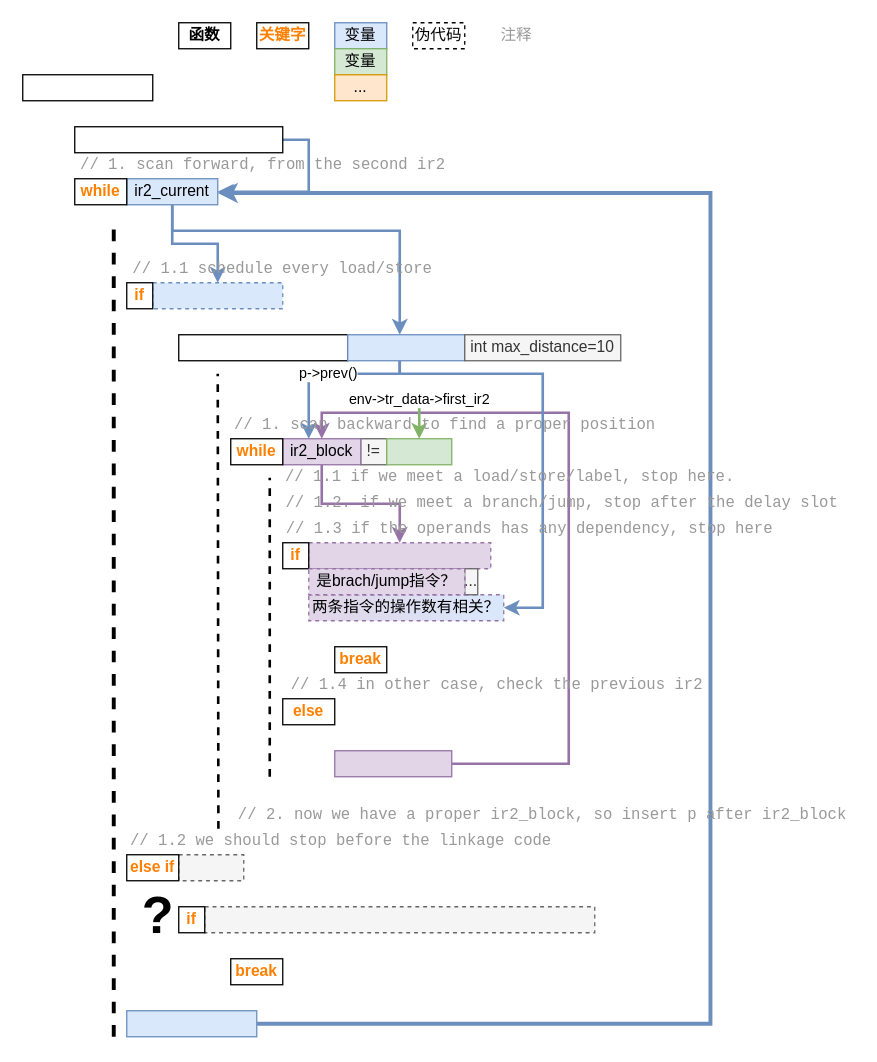
Image size: 877x1062. Some labels were removed from this diagram. The centre of each missing label's shape, as x and y in pixels:
_native_code_offset_for_succ_linkage ...: (x=399, y=919)
env->tr_data->first_ir2-> next: (x=178, y=139)
INR2_INST *p: (x=405, y=347)
ir2_block-> prev: (x=392, y=763)
ir2_current-> next: (x=191, y=1023)
ir2_first: (x=418, y=451)
TB:: ir2_schedule: (x=87, y=87)
tri_schedule_one_ir2: (x=262, y=347)
是label?: (x=210, y=867)
是load/store/label指令？: (x=399, y=555)
是load/store指令?: (x=217, y=295)
